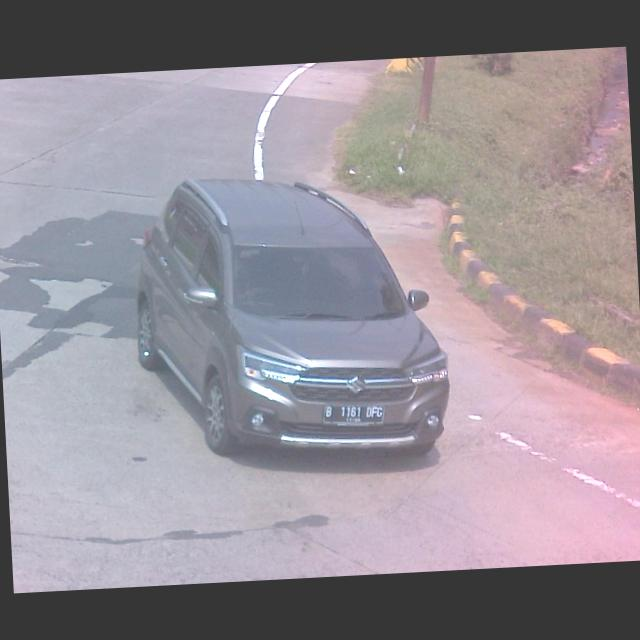plate: (322, 398, 388, 431)
